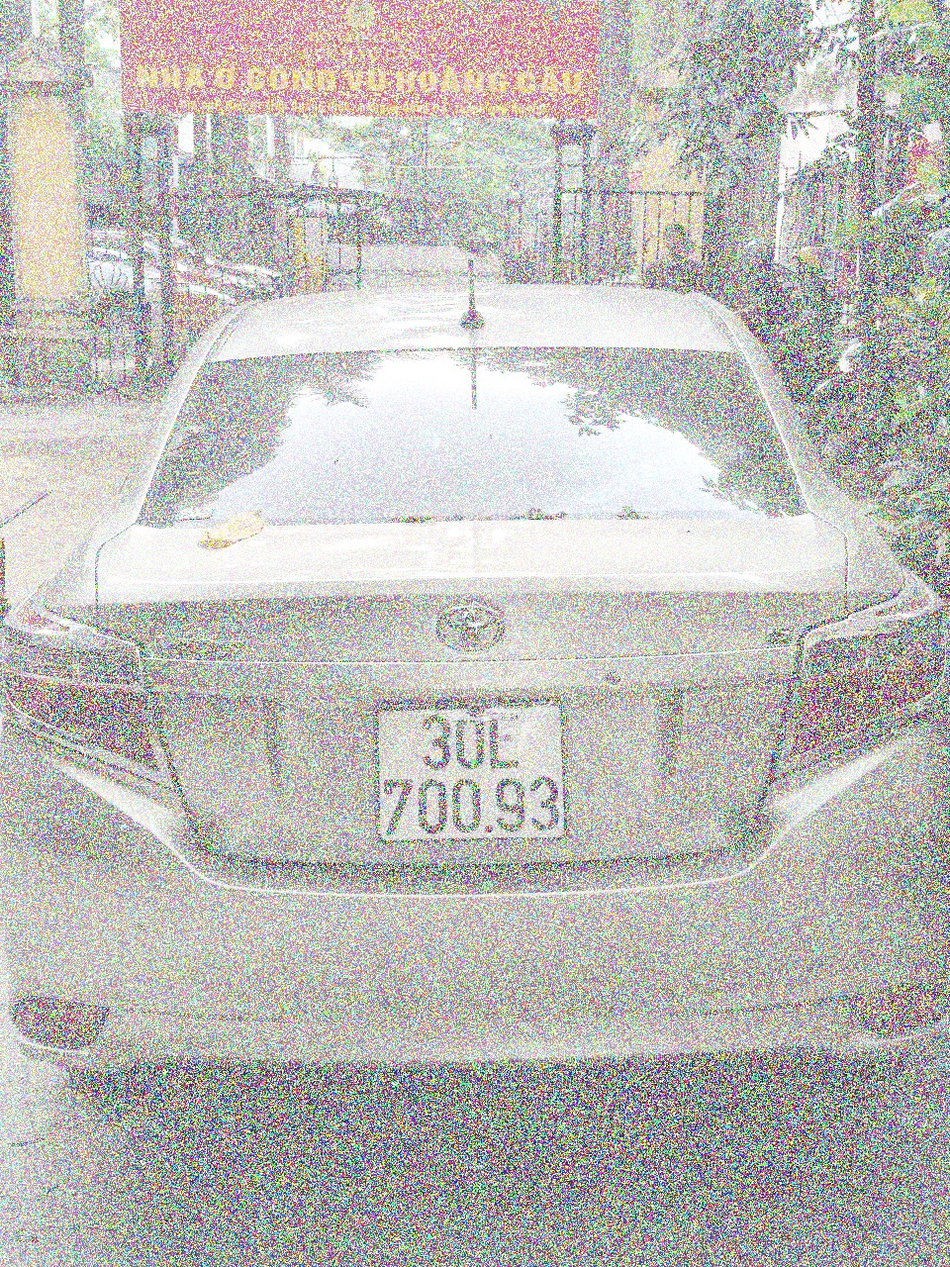plate: (390, 61, 513, 97)
